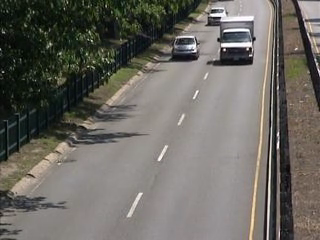car: (172, 35, 202, 63), (206, 6, 228, 28)
truck: (218, 15, 256, 67)
